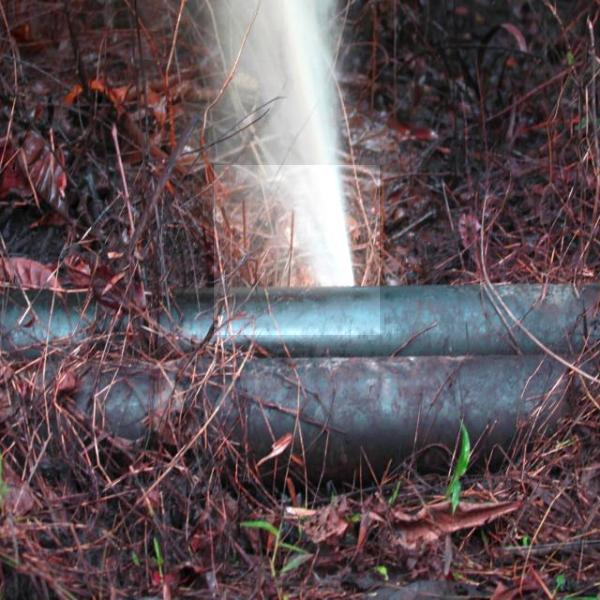leak: (214, 165, 380, 335)
